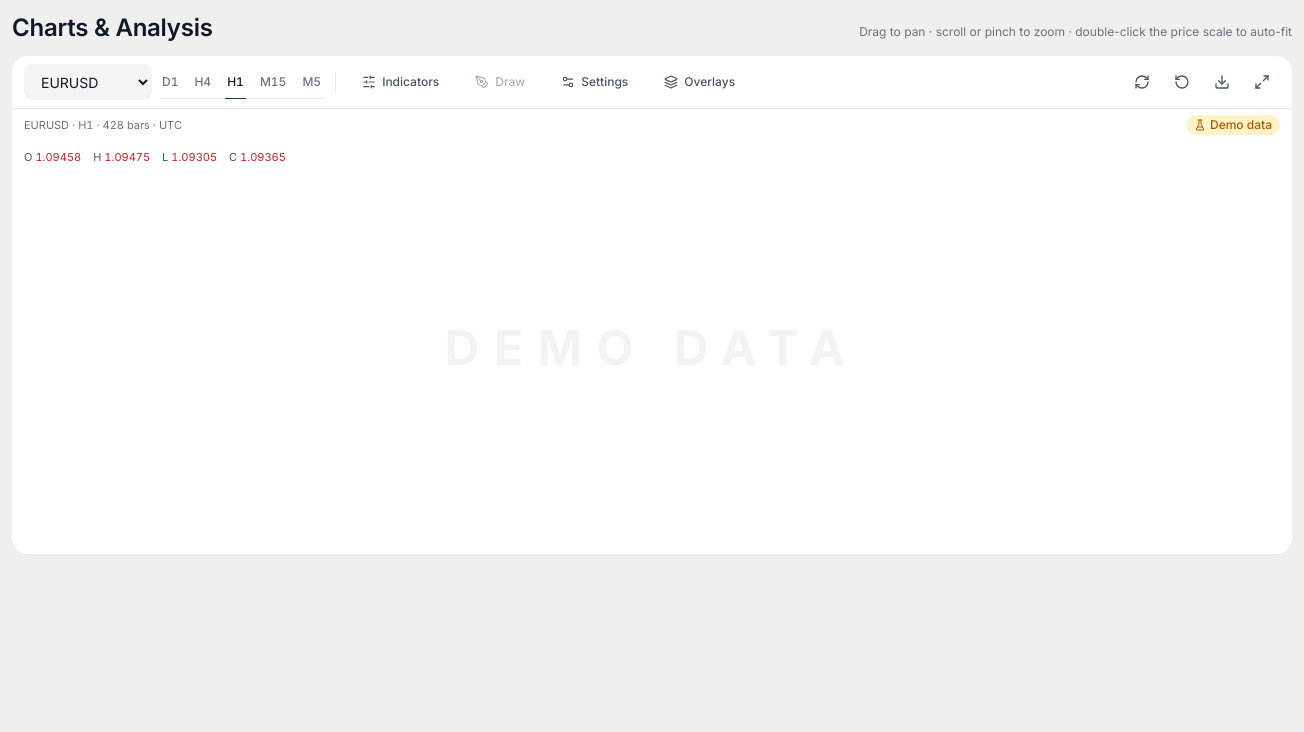
Test case: charts › switches timeframe and instrument
Check: the element with test id "candlestick-chart" is shown, box [24,150,859,376]
Click the radio button labelled "H4": x=203, y=82 [192,66,213,98]
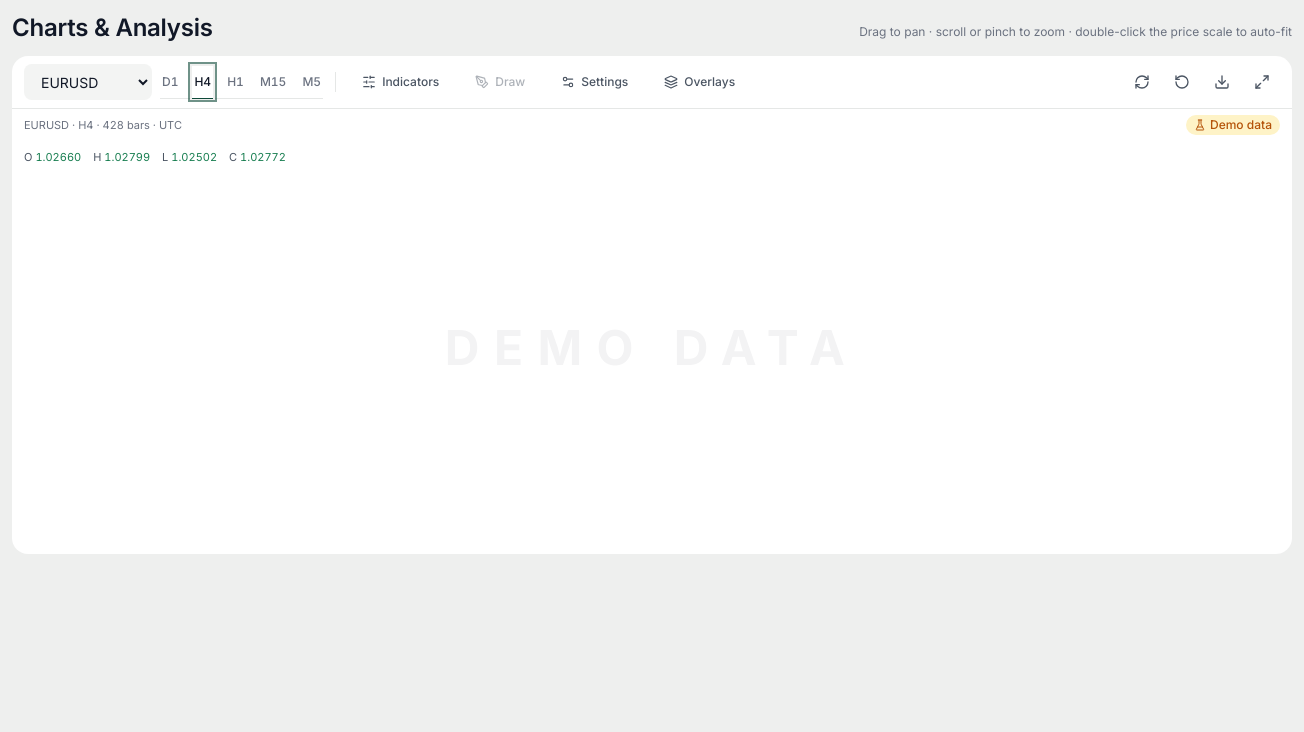
Check: the text "EURUSD · H4 · 428 bars · UTC" is shown, box [24,117,182,133]
Select "XAUUSD" in the dropdown named "Instrument": x=88, y=82 [24,64,152,100]
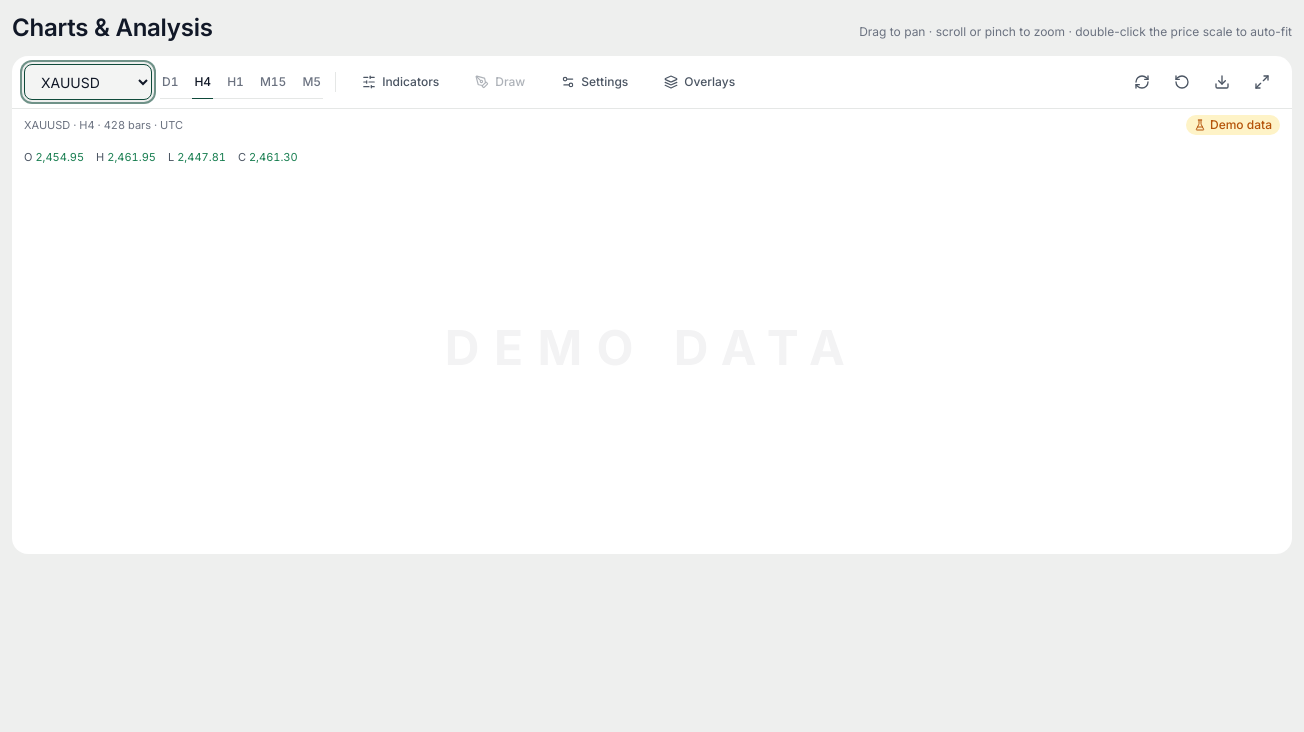
Check: the text "XAUUSD · H4 · 428 bars · UTC" is shown, box [24,117,183,133]
